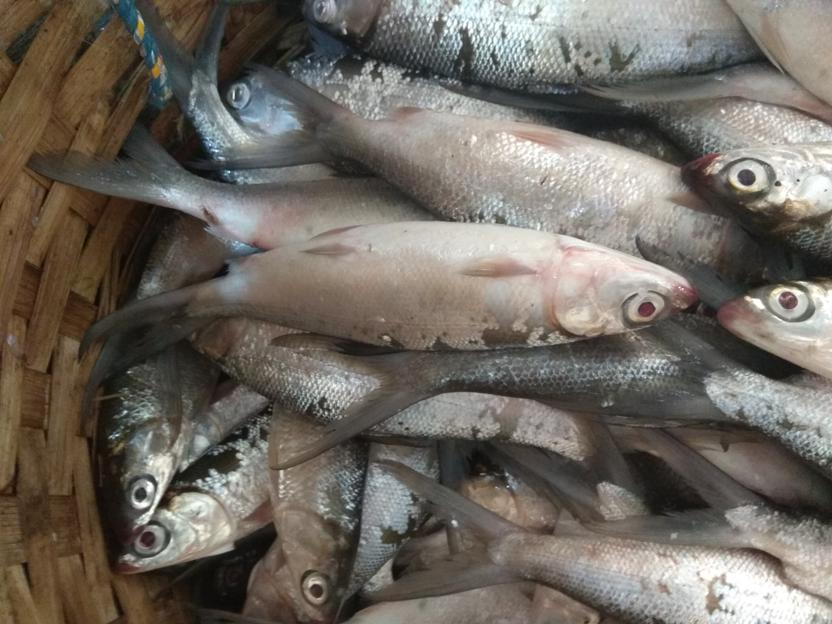Fish head: (679, 140, 828, 238), (550, 241, 691, 343), (716, 276, 829, 379), (113, 487, 233, 576), (273, 506, 356, 621), (104, 419, 184, 533), (222, 61, 306, 133)
Fish tail: (358, 456, 530, 603), (267, 333, 440, 471), (536, 317, 744, 425), (588, 428, 772, 549), (186, 65, 354, 171), (490, 413, 648, 514), (80, 277, 218, 385), (27, 118, 187, 210), (138, 1, 229, 98), (580, 62, 763, 104)
